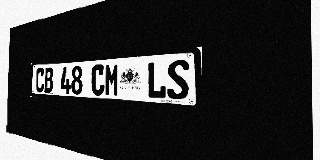4: (60, 66, 71, 94)
8: (71, 66, 83, 95)
B: (44, 67, 53, 93)
C: (91, 64, 105, 96), (36, 68, 44, 93)
L: (147, 61, 167, 99)
M: (105, 63, 120, 97)
S: (167, 59, 189, 100)
